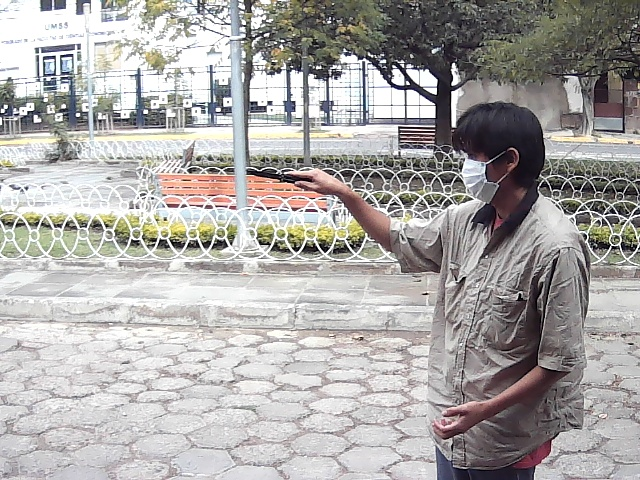cuchillo: (241, 160, 332, 198)
